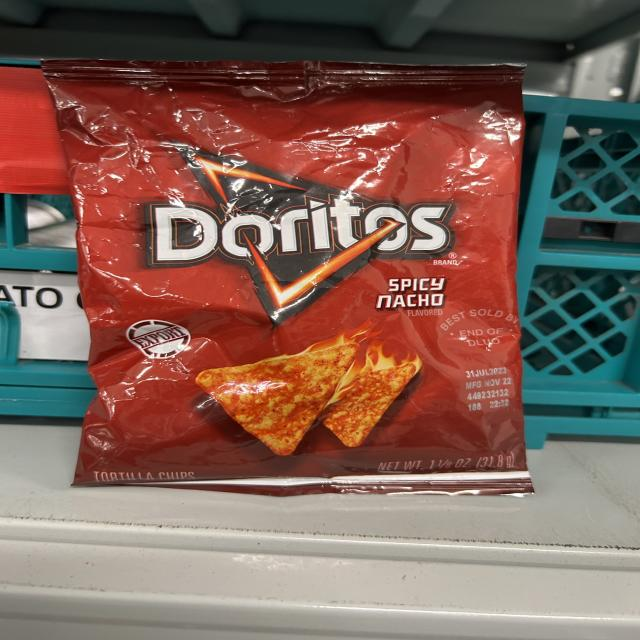object_name: (74, 65, 519, 491)
